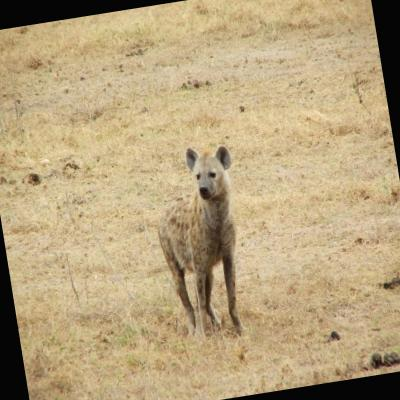hyenas: (129, 130, 307, 377)
